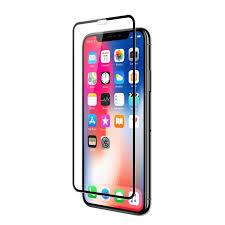iphone: (81, 25, 152, 215)
iphone10: (80, 24, 151, 214)
